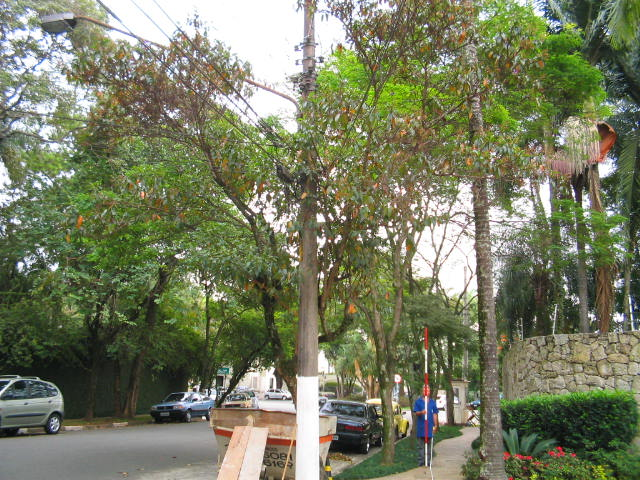stick: (415, 328, 437, 467)
